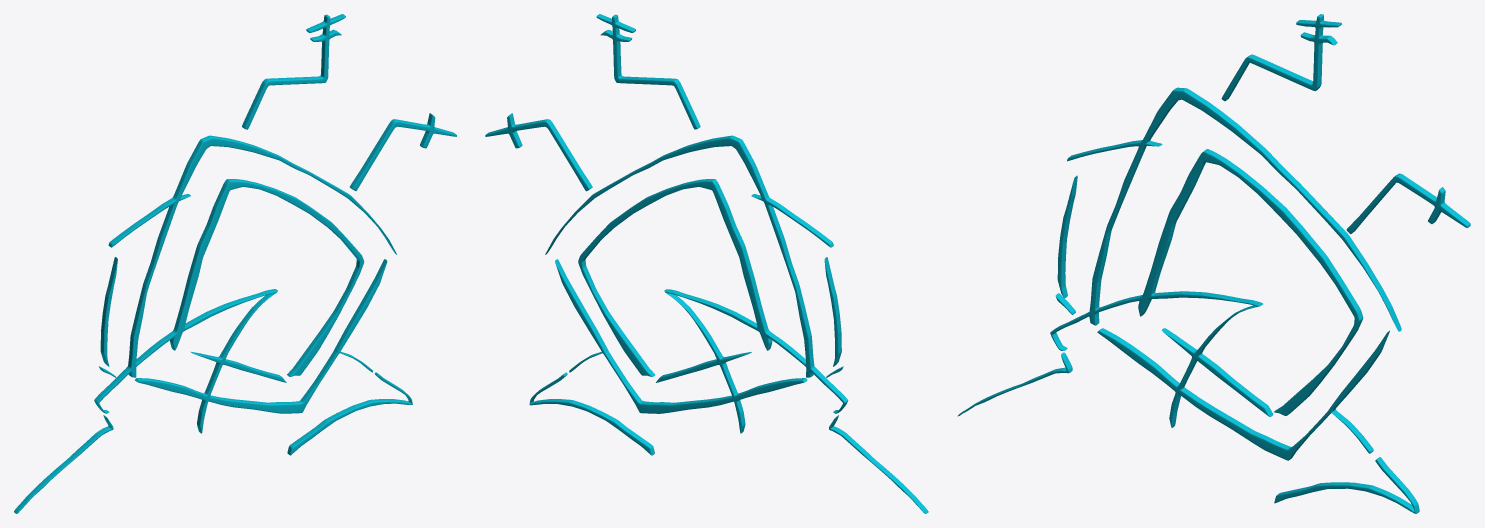
File: neon_sign.fbx
3 renders of one model, left to right at view 1: azimuth 30°, elevation 25°; view 2: azimuth 150°, elevation 25°; view 3: azimuth 330°, elevation 25°, orthographic. The views are drawn at different scales.
Parts seen in each view (by area): view 1: neon_sign; view 2: neon_sign; view 3: neon_sign.
Boxes of the visible parts, left/top/right/bottom form: neon_sign: left=14, top=14, right=456, bottom=513; neon_sign: left=485, top=14, right=928, bottom=513; neon_sign: left=957, top=14, right=1470, bottom=513.
Bounding box in the file's own units: 5.41 × 5.05 × 0.0763.
